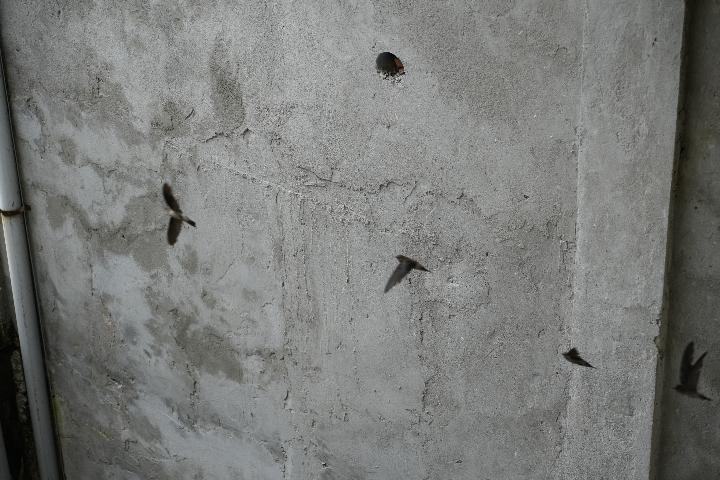walet: (156, 176, 202, 255), (665, 338, 713, 410), (379, 246, 431, 296), (555, 340, 603, 378)
